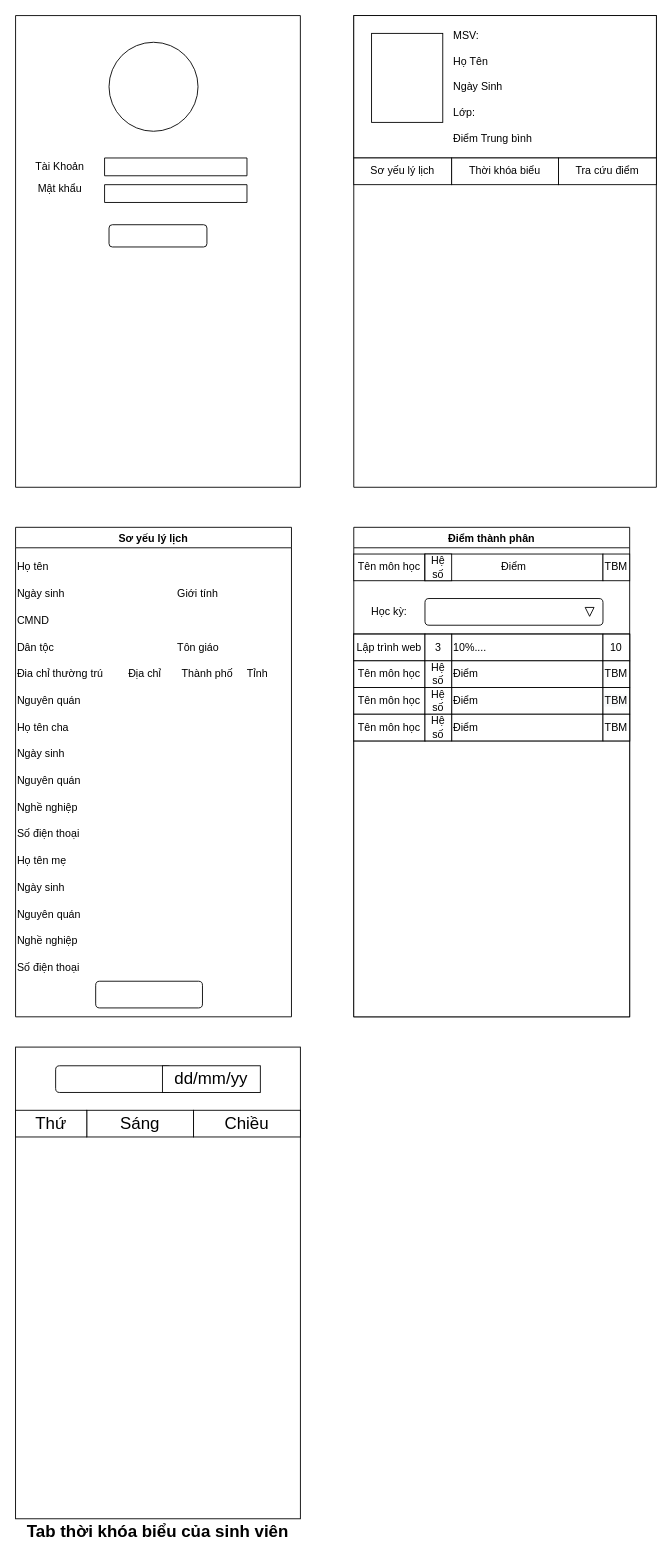
The diagram is 672 pixels wide and 1561 high, and some of its shapes have lost their labels. The shapes that lost their labels are listed below. From the top down, each one's centre as x and y in pixels, then its label:
At pixel 153 86: "Logo".
At pixel 407 77: "Ảnh".
At pixel 157 235: "Đăng nhập".
At pixel 513 611: "Học kỳ 1".
At pixel 148 994: "Chỉnh sửa".
At pixel 113 1078: "Thời gian từ".
